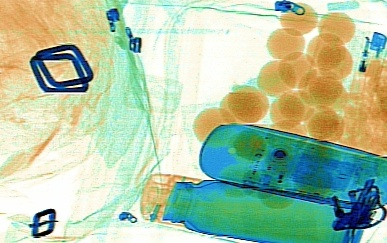lighter: (348, 30, 385, 107)
